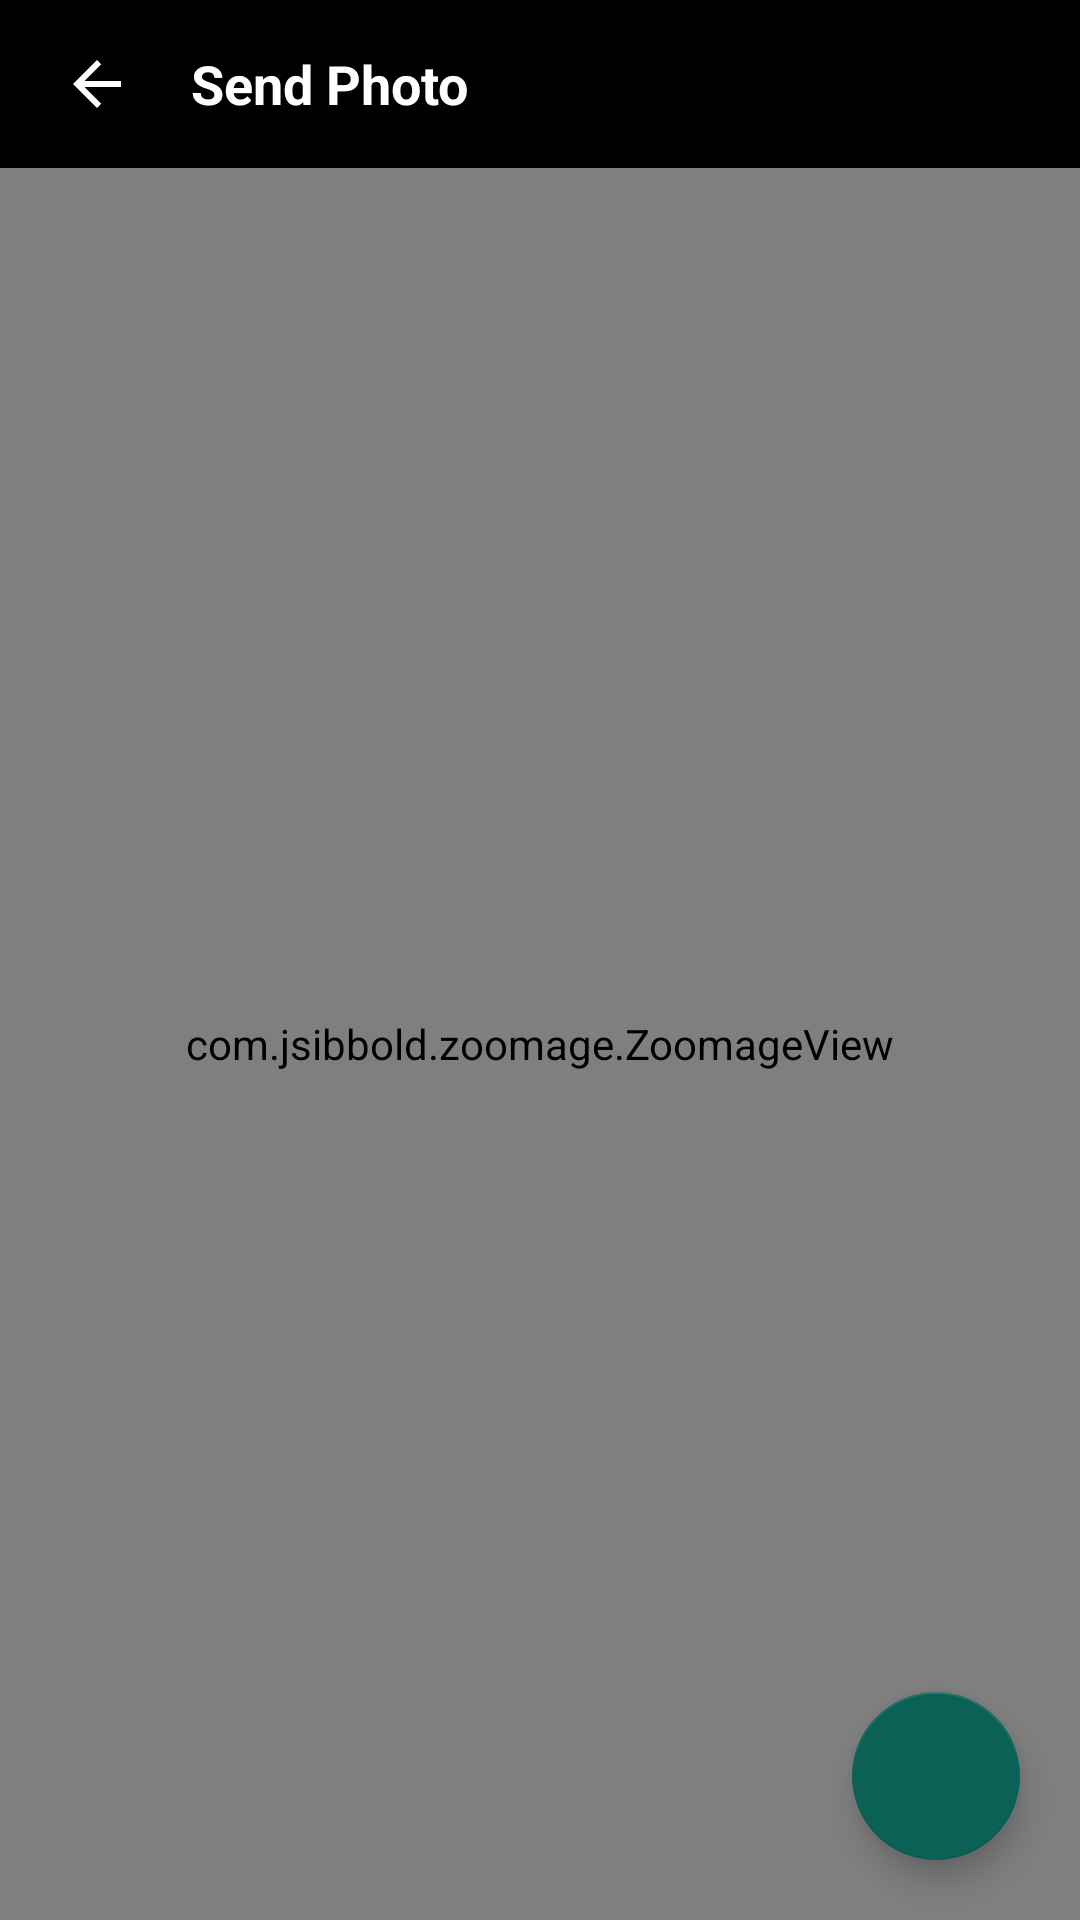

Named icons in this screenshot (1080w x 1920h) and their centers, [x,y]:
back arrow: [97,84]
